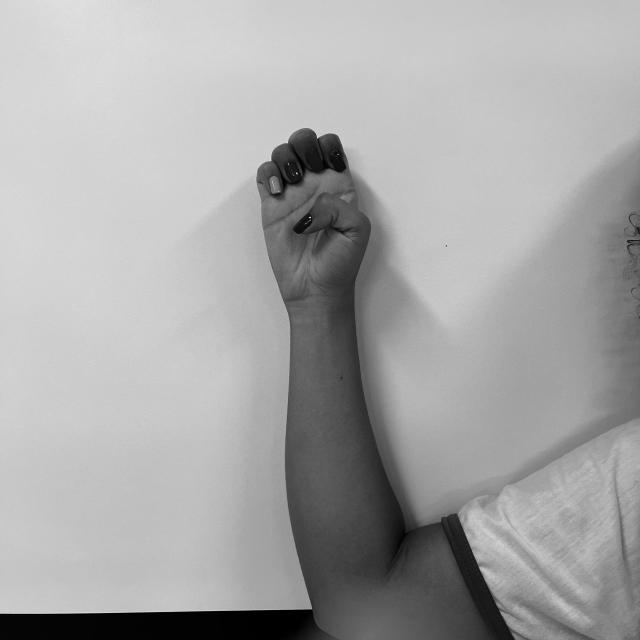Letra E: (253, 124, 378, 304)
